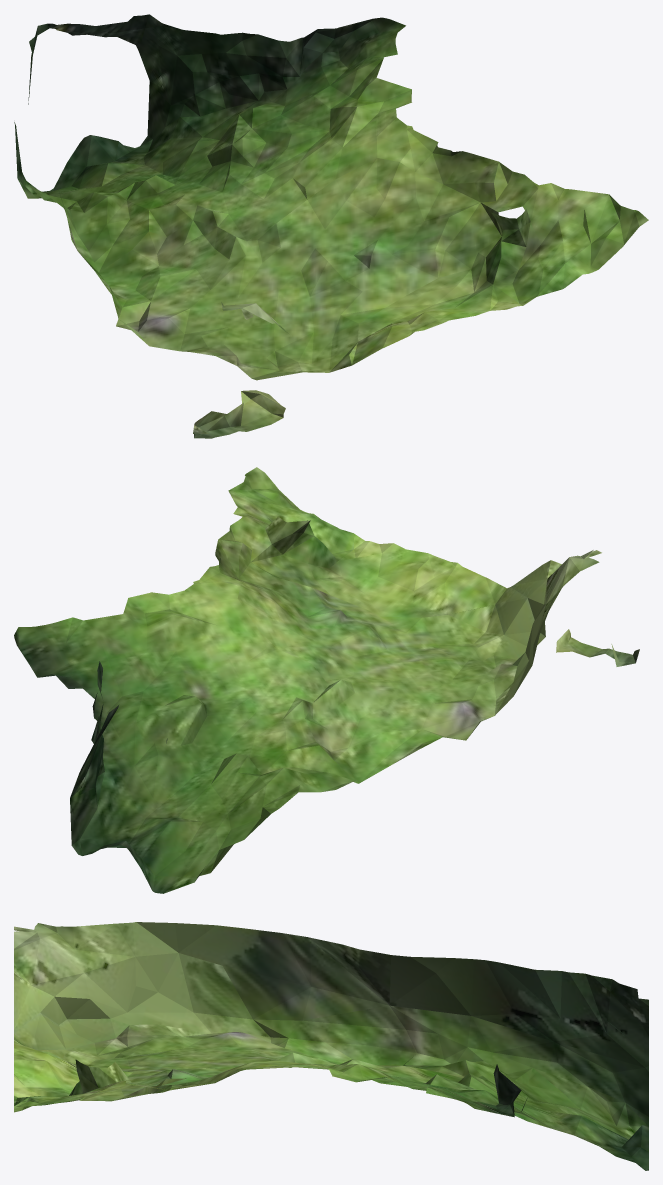
The picture shows the model from 3 angles, top to bottom: view 1: azimuth 30°, elevation 25°; view 2: azimuth 150°, elevation 25°; view 3: azimuth 270°, elevation 25°; orthographic projection. The views are drawn at different scales.
Size of the model in its own units: 19.92 by 7 by 26.11.
2 materials, 2 textured.
